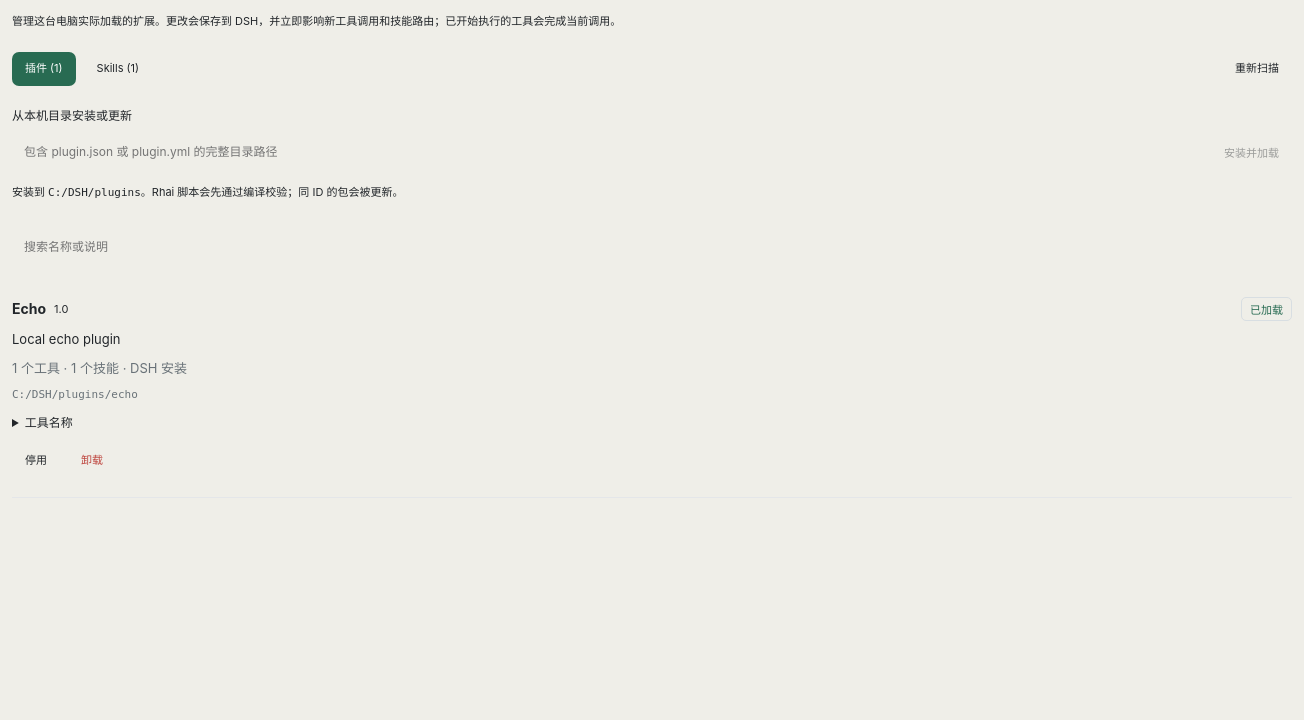
Test case: DSH extension management › surfaces failed persistence and keeps actual activation state
The image size is (1304, 720).
Click the button "停用" at (36, 461), box [12,444,60,478]
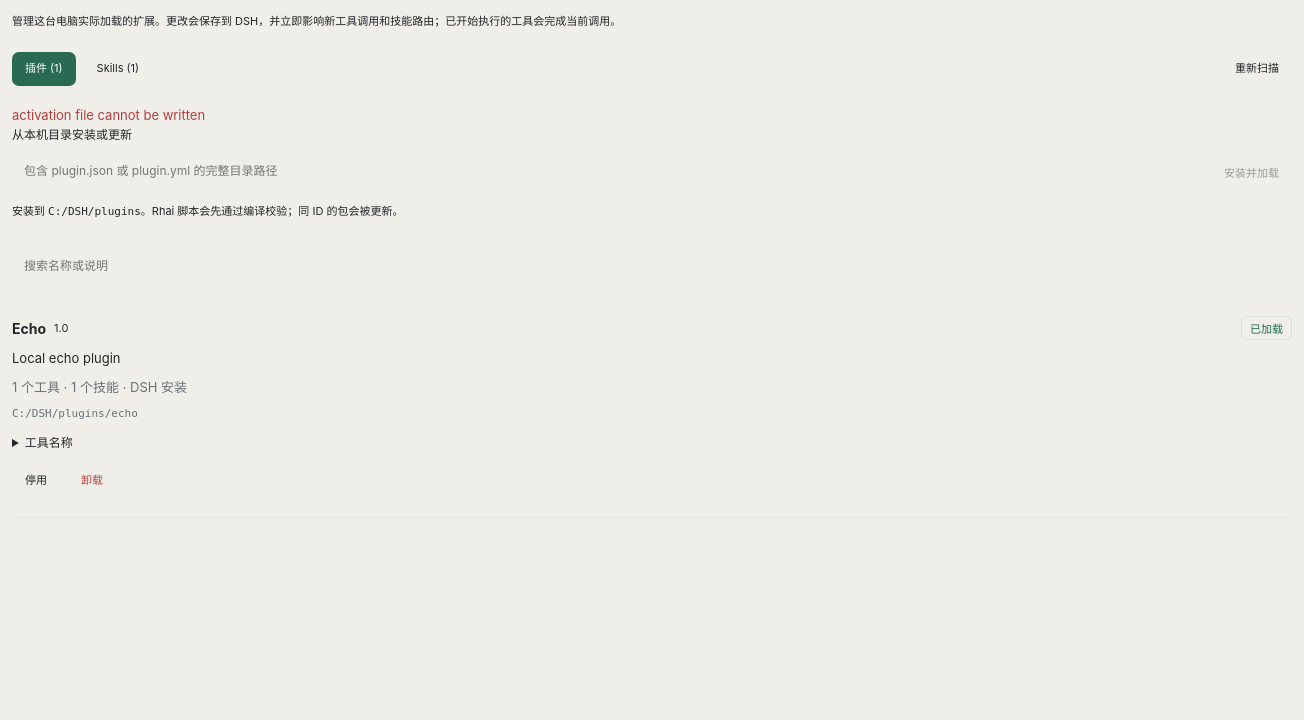
Expected: the button "停用" is enabled, [12,464,60,498]
Now the message reads "activation file cannot be written", box [12,107,205,123]
